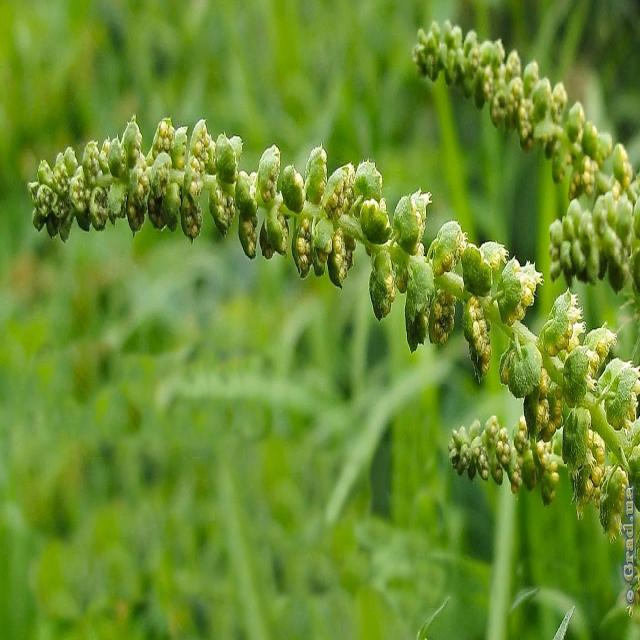ambrosia: (21, 87, 640, 440), (402, 8, 640, 294), (421, 378, 626, 522)
